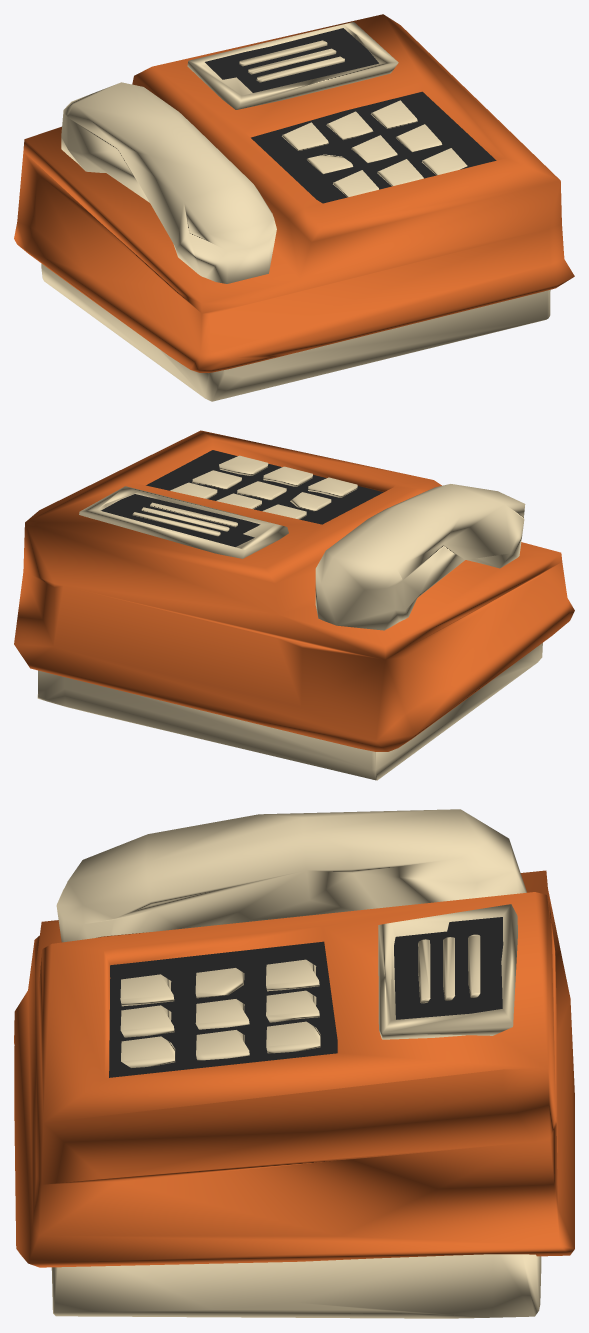
Rendered from Telephone.glb.
3 renders of one model, top to bottom at view 1: azimuth 30°, elevation 25°; view 2: azimuth 150°, elevation 25°; view 3: azimuth 270°, elevation 25°, orthographic. The views are drawn at different scales.
Visible parts, largest first — view 1: 3d66-Editable_mesh-23123286-347, 3d66-Editable_mesh-23123286-353, 3d66-Editable_mesh-23123286-346; view 2: 3d66-Editable_mesh-23123286-347, 3d66-Editable_mesh-23123286-353, 3d66-Editable_mesh-23123286-346; view 3: 3d66-Editable_mesh-23123286-347, 3d66-Editable_mesh-23123286-353, 3d66-Editable_mesh-23123286-346.
Part boxes in pixels (x1,y1,x2,y2): 3d66-Editable_mesh-23123286-347: [14, 14, 574, 372]; 3d66-Editable_mesh-23123286-353: [41, 22, 550, 401]; 3d66-Editable_mesh-23123286-346: [205, 28, 496, 203]; 3d66-Editable_mesh-23123286-347: [14, 430, 574, 751]; 3d66-Editable_mesh-23123286-353: [37, 455, 542, 780]; 3d66-Editable_mesh-23123286-346: [101, 450, 383, 546]; 3d66-Editable_mesh-23123286-347: [14, 870, 574, 1267]; 3d66-Editable_mesh-23123286-353: [51, 809, 541, 1318]; 3d66-Editable_mesh-23123286-346: [109, 917, 503, 1077].
Size of the model in its own units: 1.22 by 0.6259 by 1.08.
